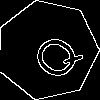Q: (22, 25, 86, 86)
